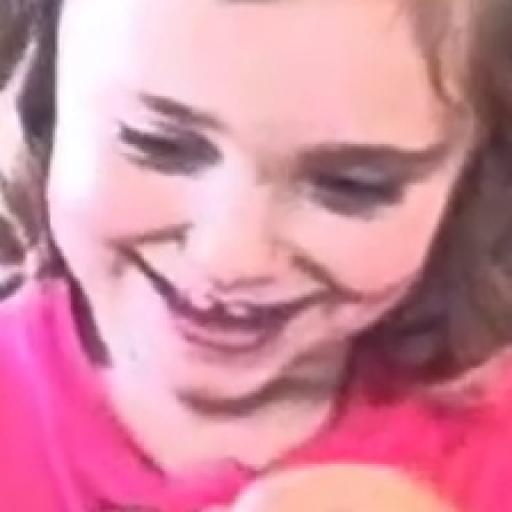Autism: (14, 24, 512, 414)
